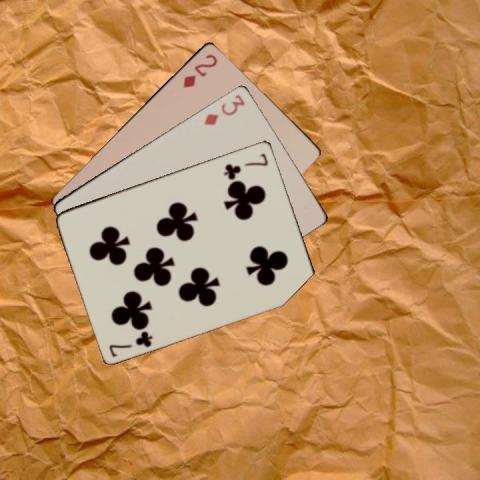2d: (180, 51, 219, 89)
3d: (200, 90, 246, 126)
7c: (106, 327, 154, 358), (221, 150, 269, 179)
